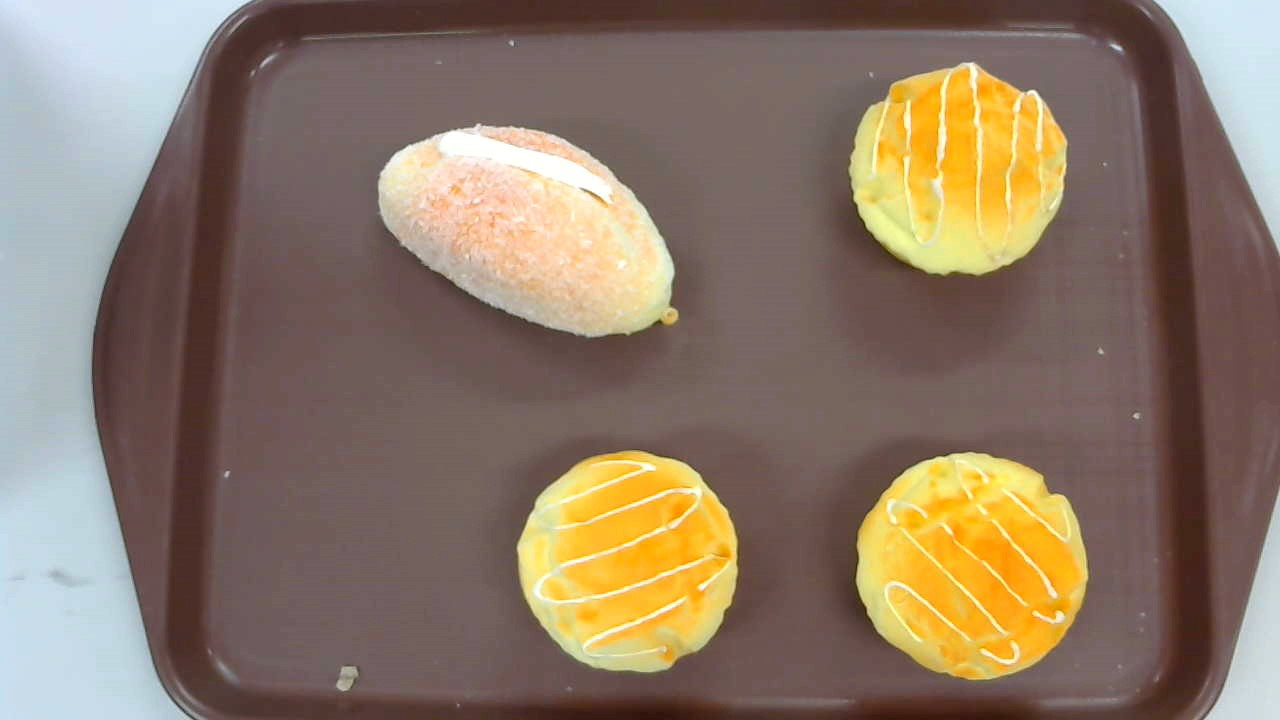coconut: (377, 123, 679, 340)
cupcake: (854, 451, 1088, 680), (516, 450, 739, 674), (847, 60, 1068, 278)
